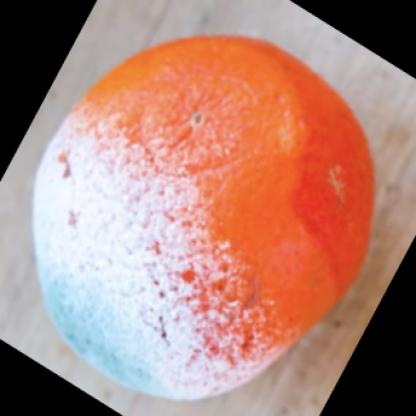rotten: (36, 34, 376, 403)
